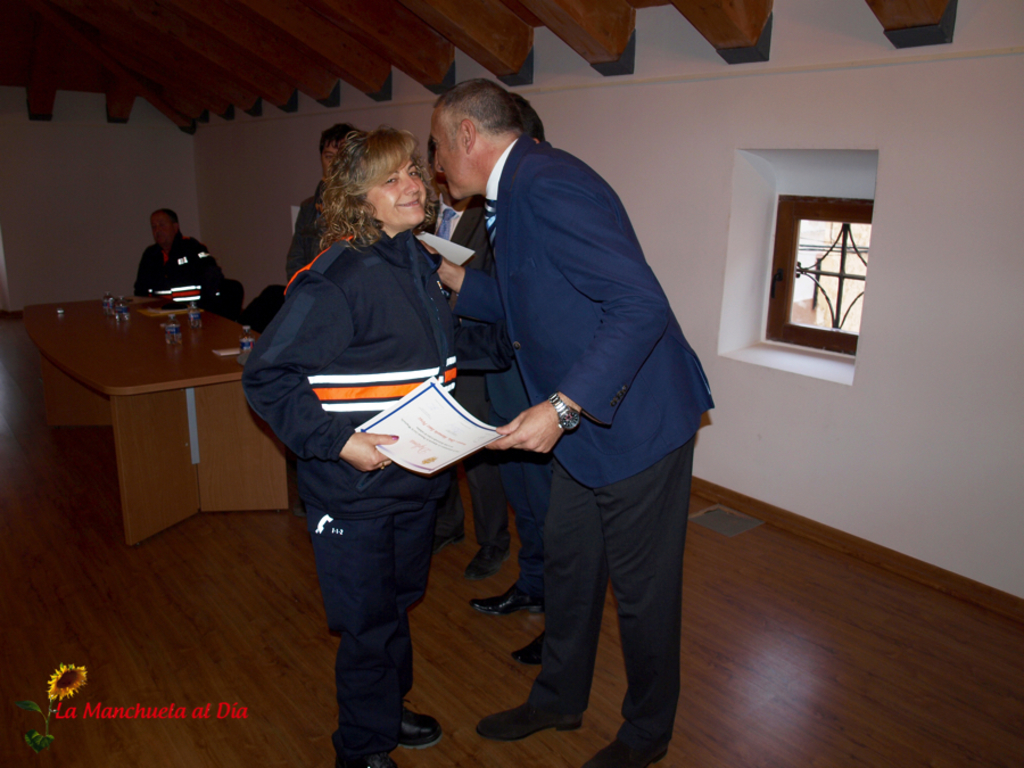Footwear: (474, 696, 589, 741), (595, 734, 675, 767), (462, 544, 523, 587), (476, 584, 553, 617), (404, 701, 443, 749), (512, 636, 547, 669)
